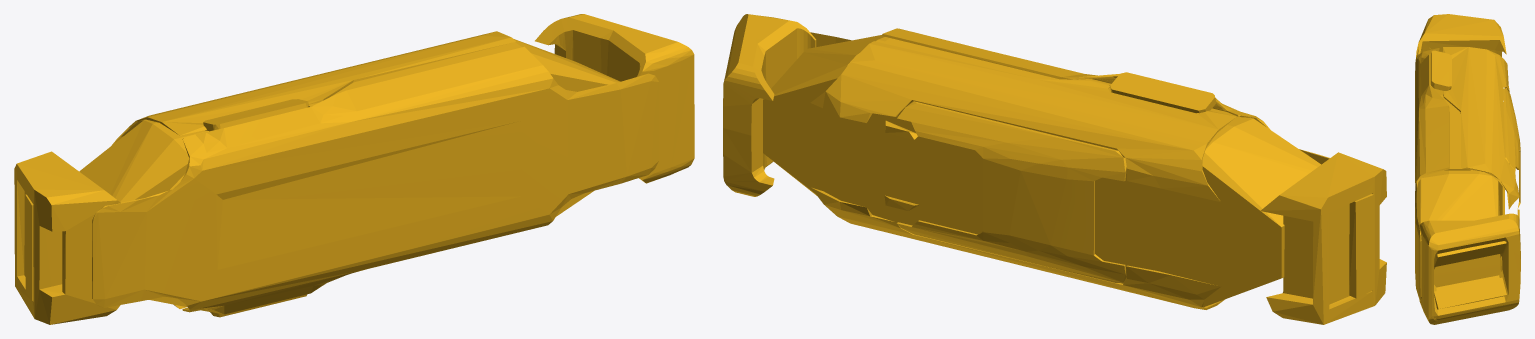
The model's file is body.glb.
3 renders of one model, left to right at view 1: azimuth 30°, elevation 25°; view 2: azimuth 150°, elevation 25°; view 3: azimuth 270°, elevation 25°, orthographic. The views are drawn at different scales.
Parts seen in each view (by area): view 1: base.015; view 2: base.015; view 3: base.015.
Boxes of the visible parts, bbox=[...] form: base.015: bbox=[14, 14, 694, 324]; base.015: bbox=[723, 14, 1386, 324]; base.015: bbox=[1415, 14, 1520, 324].
Size of the model in its own units: 0.8673 by 0.2473 by 0.1735.
